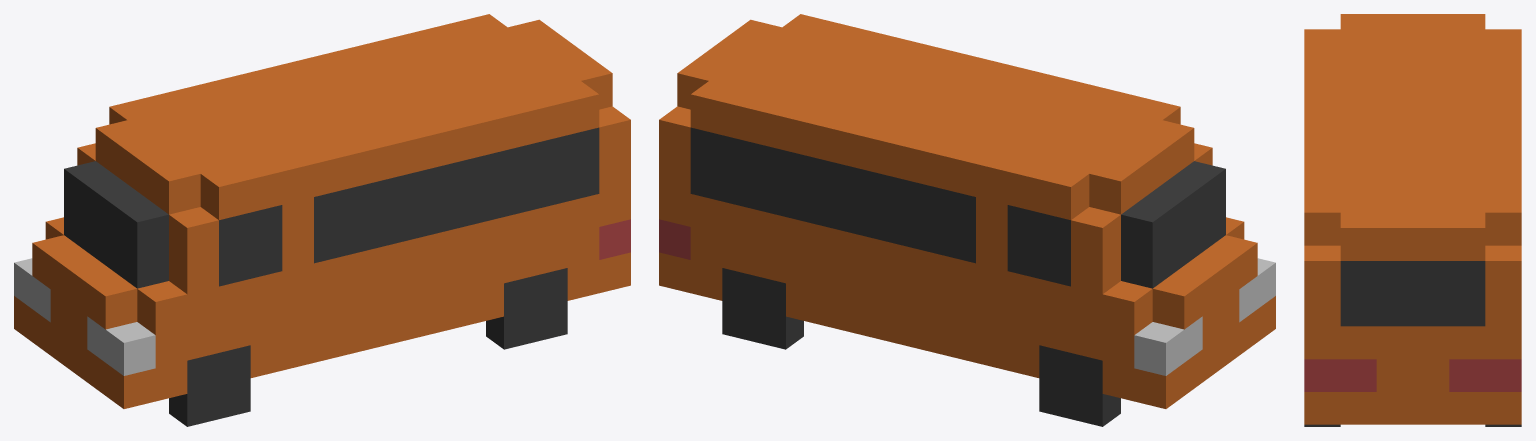
Rendered from bus-small-orange.gltf.
The picture shows the model from 3 angles, left to right: view 1: azimuth 30°, elevation 25°; view 2: azimuth 150°, elevation 25°; view 3: azimuth 270°, elevation 25°; orthographic projection.
Parts seen in each view (by area): view 1: model, wheels; view 2: model, wheels; view 3: model, wheels.
Boxes of the visible parts, bbox=[...] form: model: bbox=[14, 14, 630, 408]; wheels: bbox=[169, 268, 567, 426]; model: bbox=[659, 14, 1275, 408]; wheels: bbox=[722, 268, 1120, 426]; model: bbox=[1304, 14, 1521, 424]; wheels: bbox=[1304, 424, 1521, 426].
Size of the model in its own units: 1.6 by 0.7 by 0.6.
Materials: 2 (2 with a texture image).
